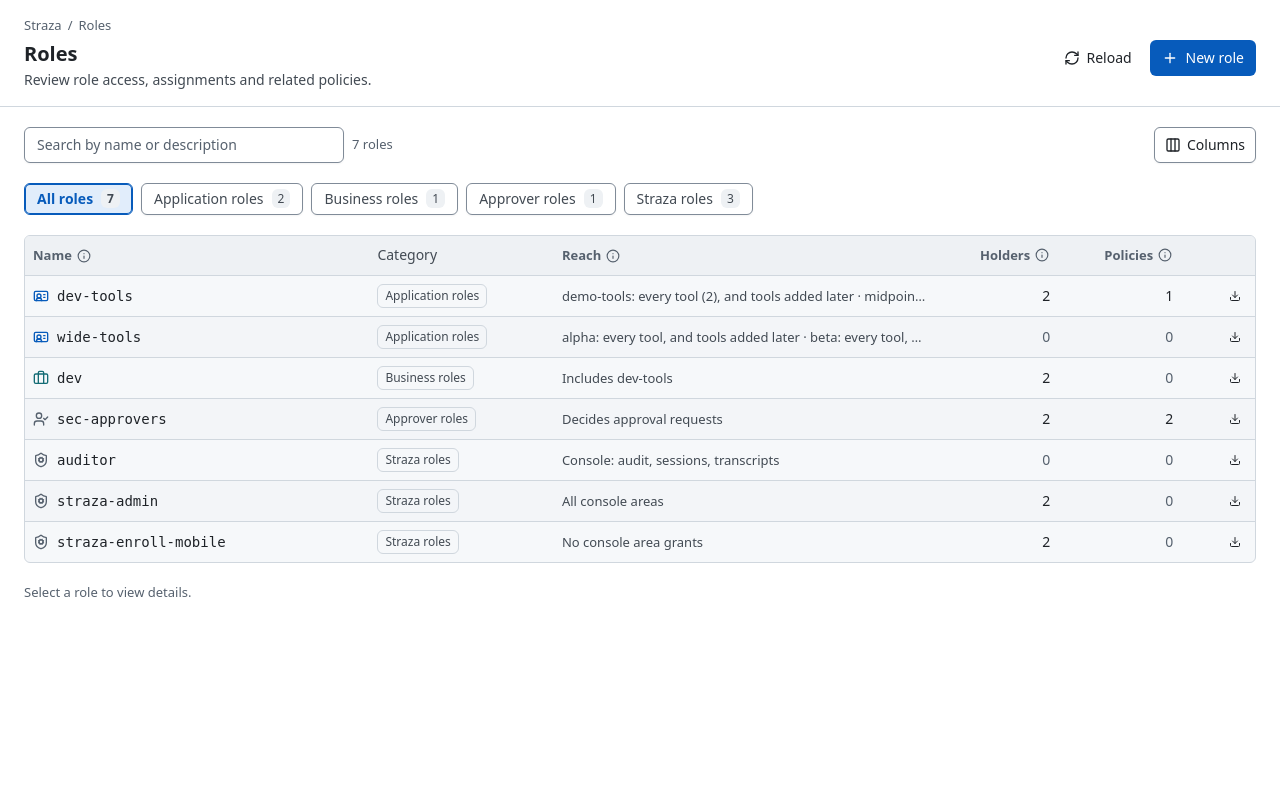
Test: the Roles list › retains server and tool detail in Application roles
Click the button "Application roles 2".
click(222, 198)  # box [141,182,304,214]
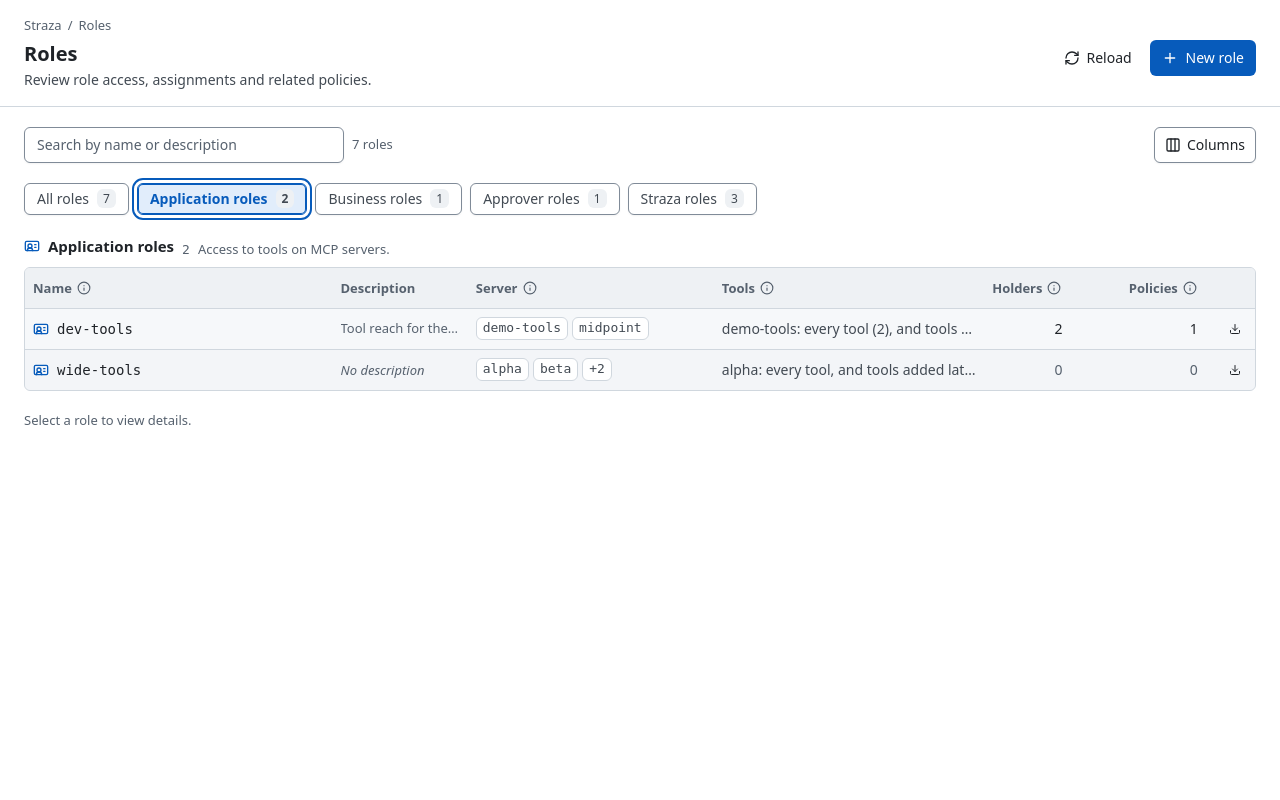
expect the text "demo-tools" is shown: met, box [476,318,568,340]
expect the text "midpoint" is shown: met, box [572,318,649,340]
expect the text "get-user and set-user" is shown: met, box [722,319,1249,338]
